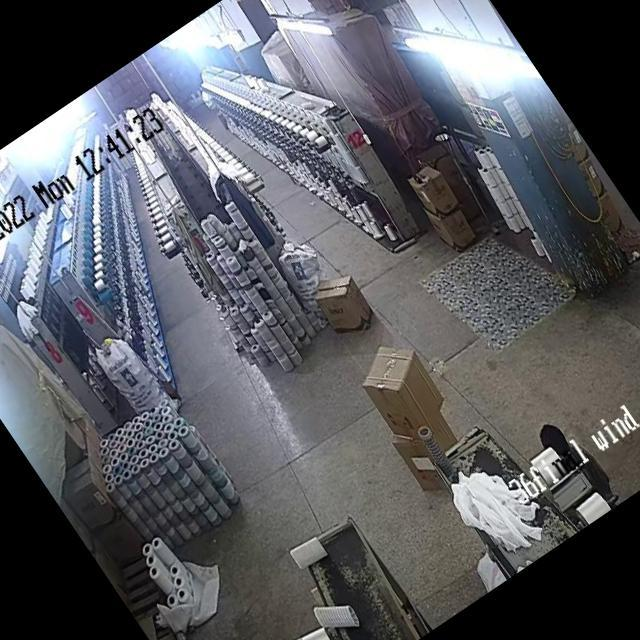person: (528, 406, 608, 495)
